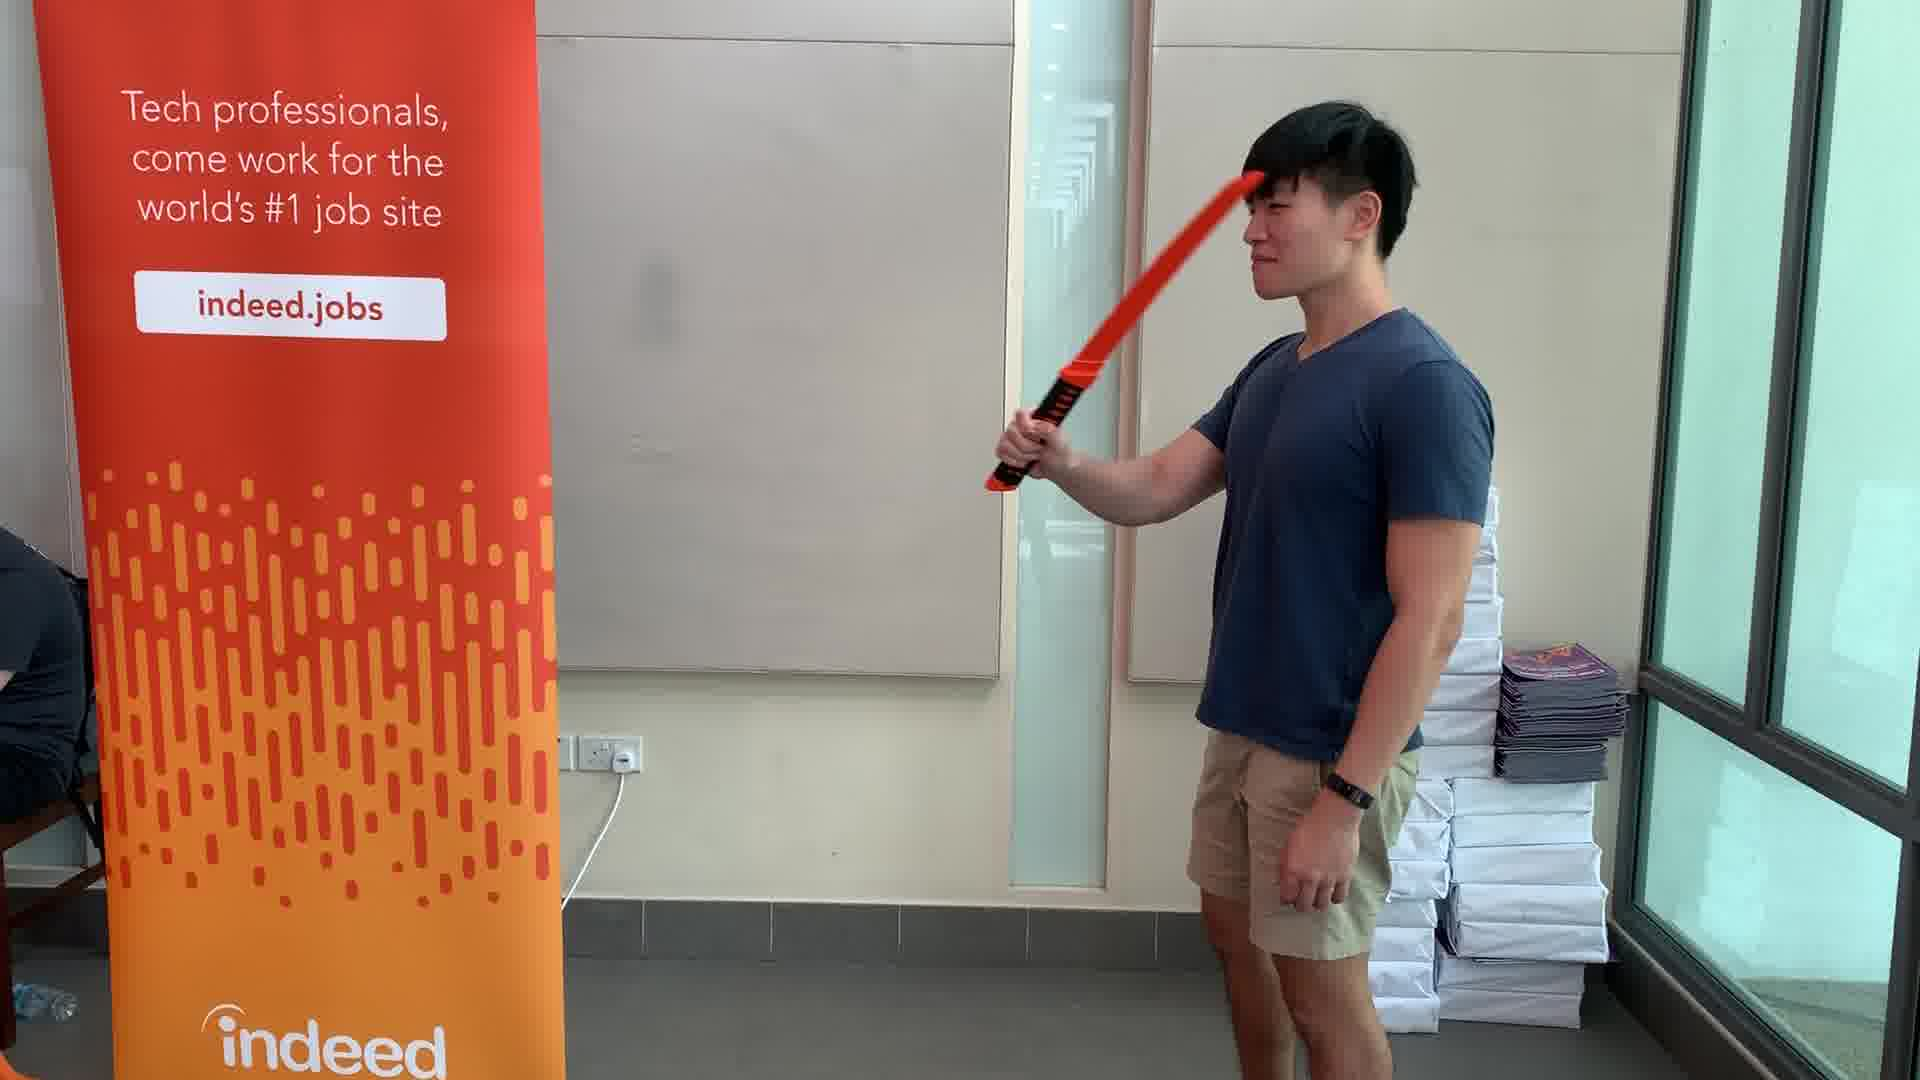knife: (975, 164, 1266, 496)
